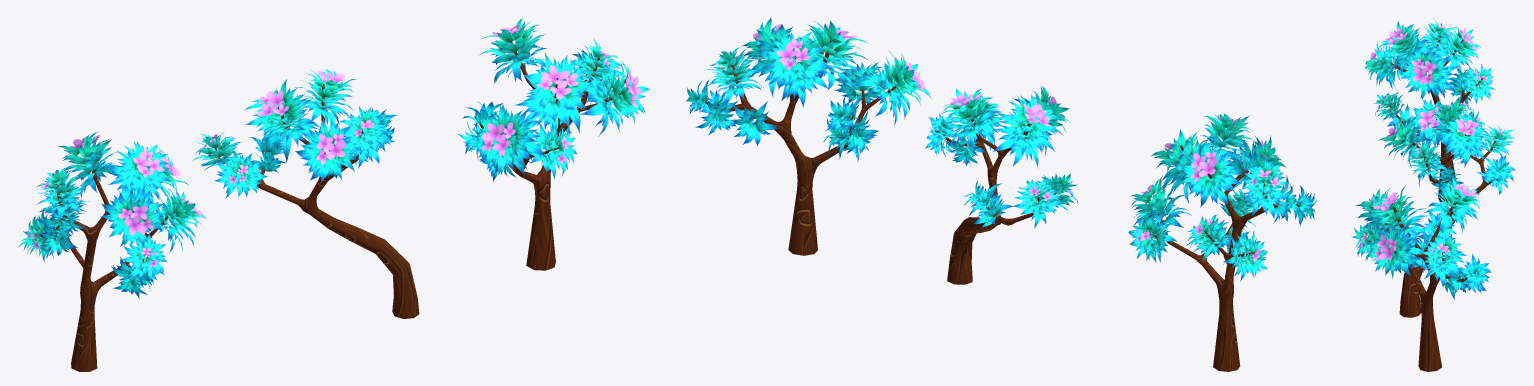
The model's file is arbolesAzules.fbx.
The picture shows the model from 3 angles, left to right: view 1: azimuth 30°, elevation 25°; view 2: azimuth 150°, elevation 25°; view 3: azimuth 270°, elevation 25°; orthographic projection. The views are drawn at different scales.
Parts seen in each view (by area): view 1: Object_5.002, Object_6.002, Object_20.001; view 2: Object_5.002, Object_6.002, Object_20.001; view 3: Object_5.002, Object_6.002, Object_20.001.
Part boxes in pixels (x1,y1,x2,y2): Object_5.002: (458, 18, 650, 270); Object_6.002: (18, 131, 205, 371); Object_20.001: (193, 69, 419, 318); Object_5.002: (685, 17, 931, 255); Object_6.002: (1128, 113, 1316, 371); Object_20.001: (925, 86, 1078, 284); Object_5.002: (1351, 176, 1491, 371); Object_6.002: (1364, 18, 1495, 202); Object_20.001: (1378, 97, 1515, 317).
Bounding box in the file's own units: 2032 × 765 × 633.
Materials: 1 (1 with a texture image).
